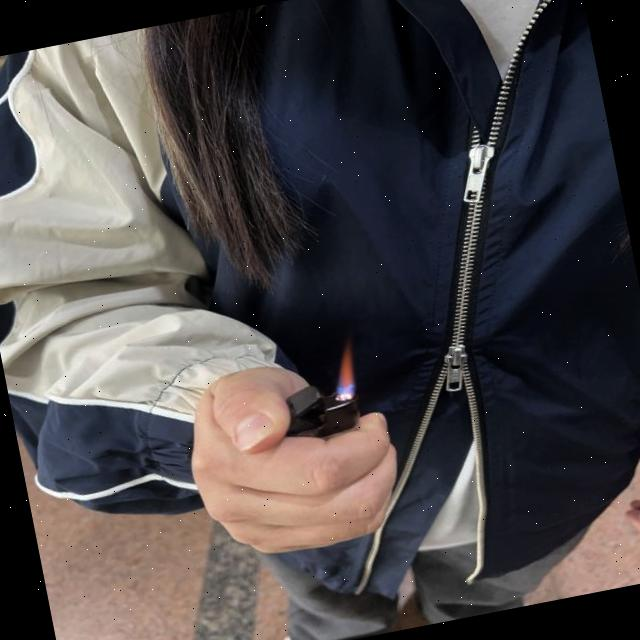fire: (324, 336, 364, 402)
